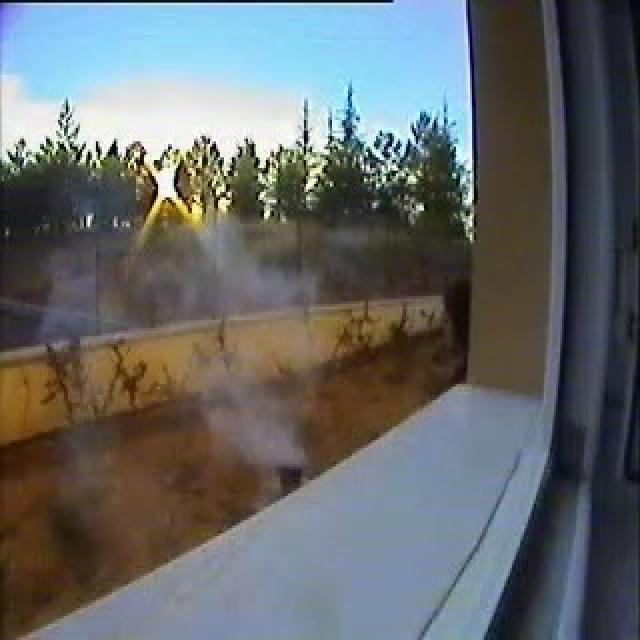smoke: (215, 401, 306, 464)
